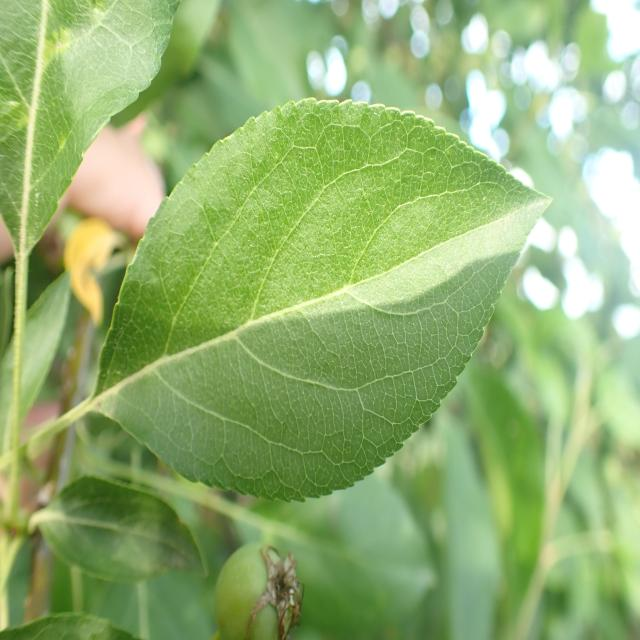healthy: (95, 96, 554, 503), (0, 0, 180, 252)
